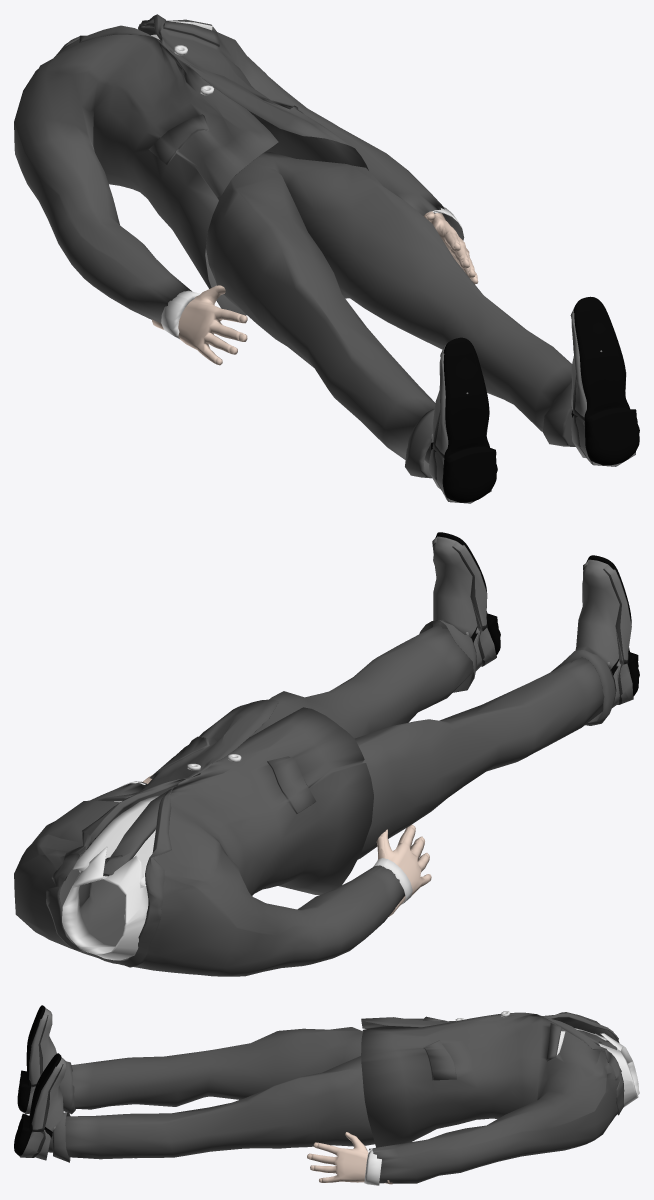
File: agent.fbx
The picture shows the model from 3 angles, top to bottom: view 1: azimuth 30°, elevation 25°; view 2: azimuth 150°, elevation 25°; view 3: azimuth 270°, elevation 25°; orthographic projection. The views are drawn at different scales.
Visible parts, largest first — view 1: Head.Hands.001; view 2: Head.Hands.001; view 3: Head.Hands.001.
Boxes of the visible parts, x1,y1,x2,y2 form: Head.Hands.001: [14, 14, 639, 503]; Head.Hands.001: [14, 532, 639, 976]; Head.Hands.001: [14, 1005, 639, 1185].
Size of the model in its own units: 187 by 109 by 472.
